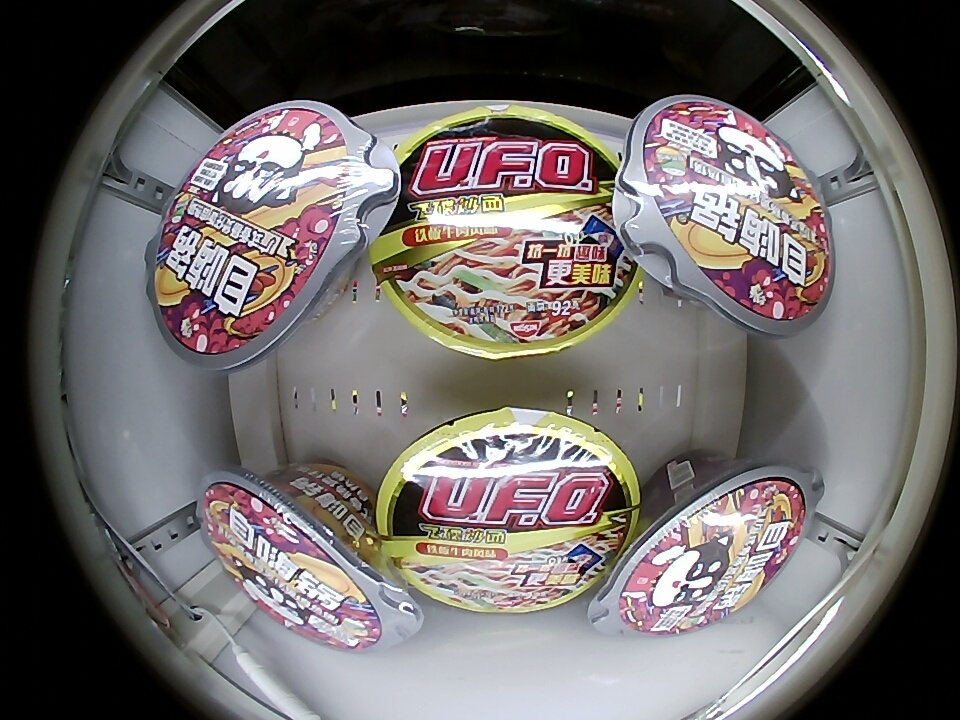ufo: (369, 103, 641, 359), (377, 406, 639, 612)
zihaiguo: (155, 108, 350, 355), (643, 101, 829, 320), (203, 481, 384, 650), (619, 476, 808, 635)
